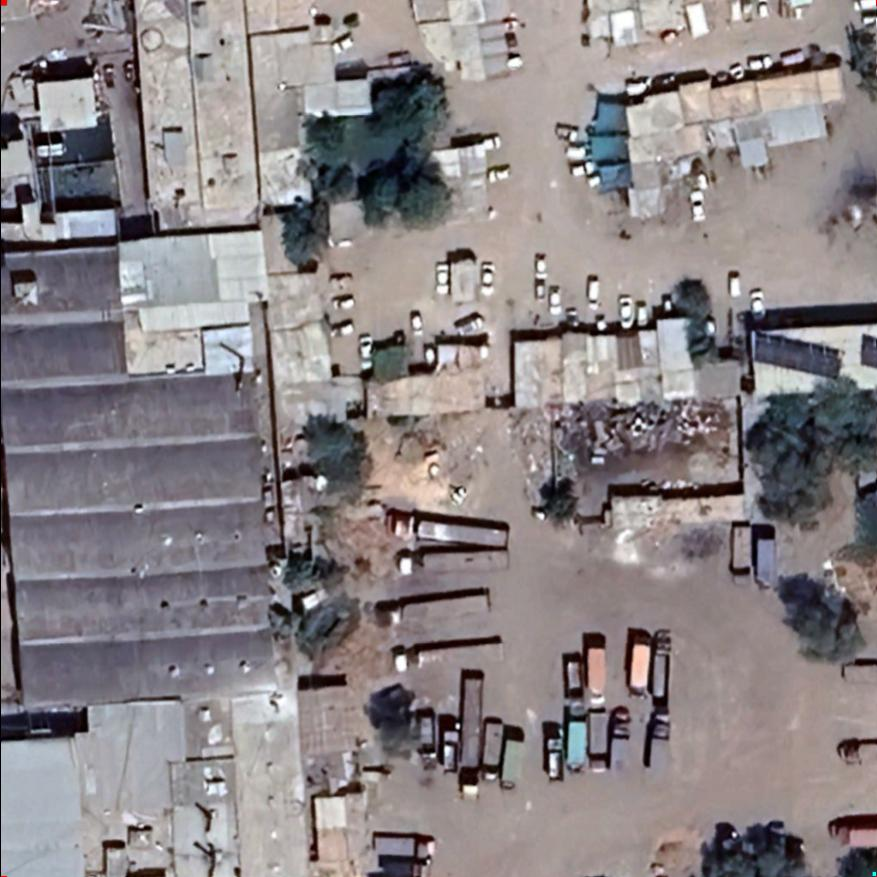Solarpanel: (747, 327, 847, 380), (856, 331, 875, 372)
